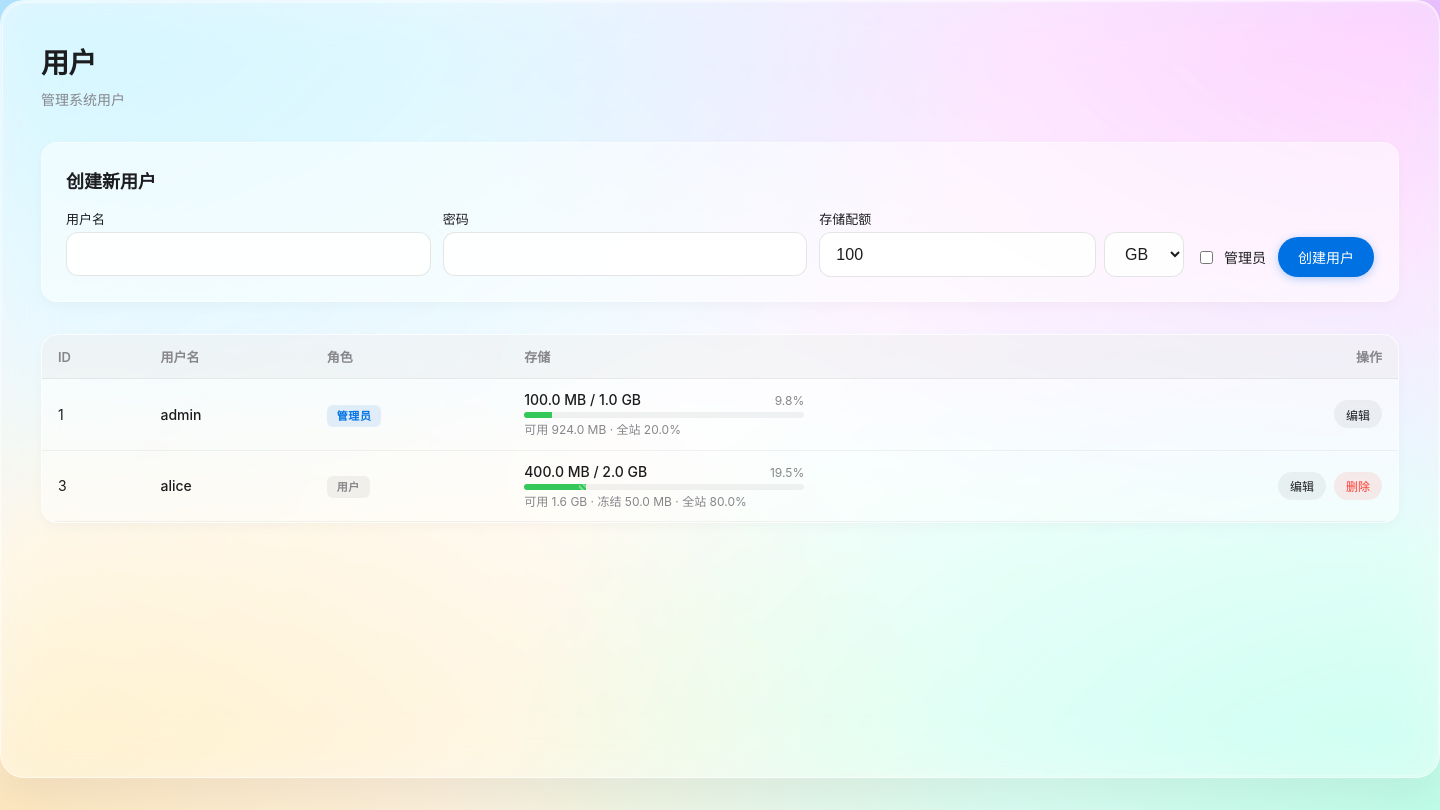
UsersPage › blocks create user when quota is invalid
Expected: the heading "创建新用户" is shown, [66, 171, 156, 192]
Expected: the text "alice" is shown, [144, 450, 311, 522]
Type "new-user" into the field labelled "用户名" at [248, 254], box [66, 232, 431, 276]
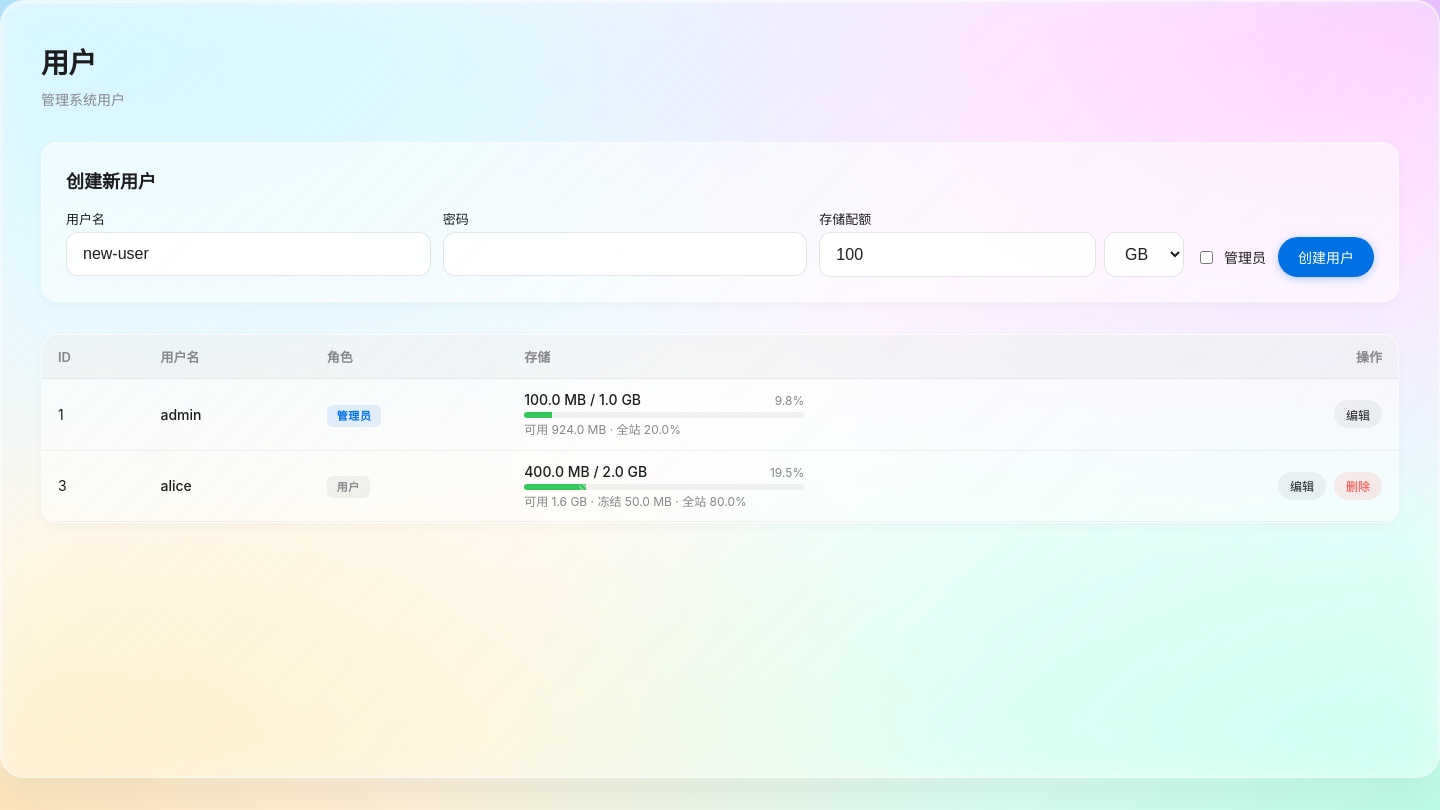
Type "pass123456" into the password field labelled "密码" at [625, 254], box [443, 232, 807, 276]
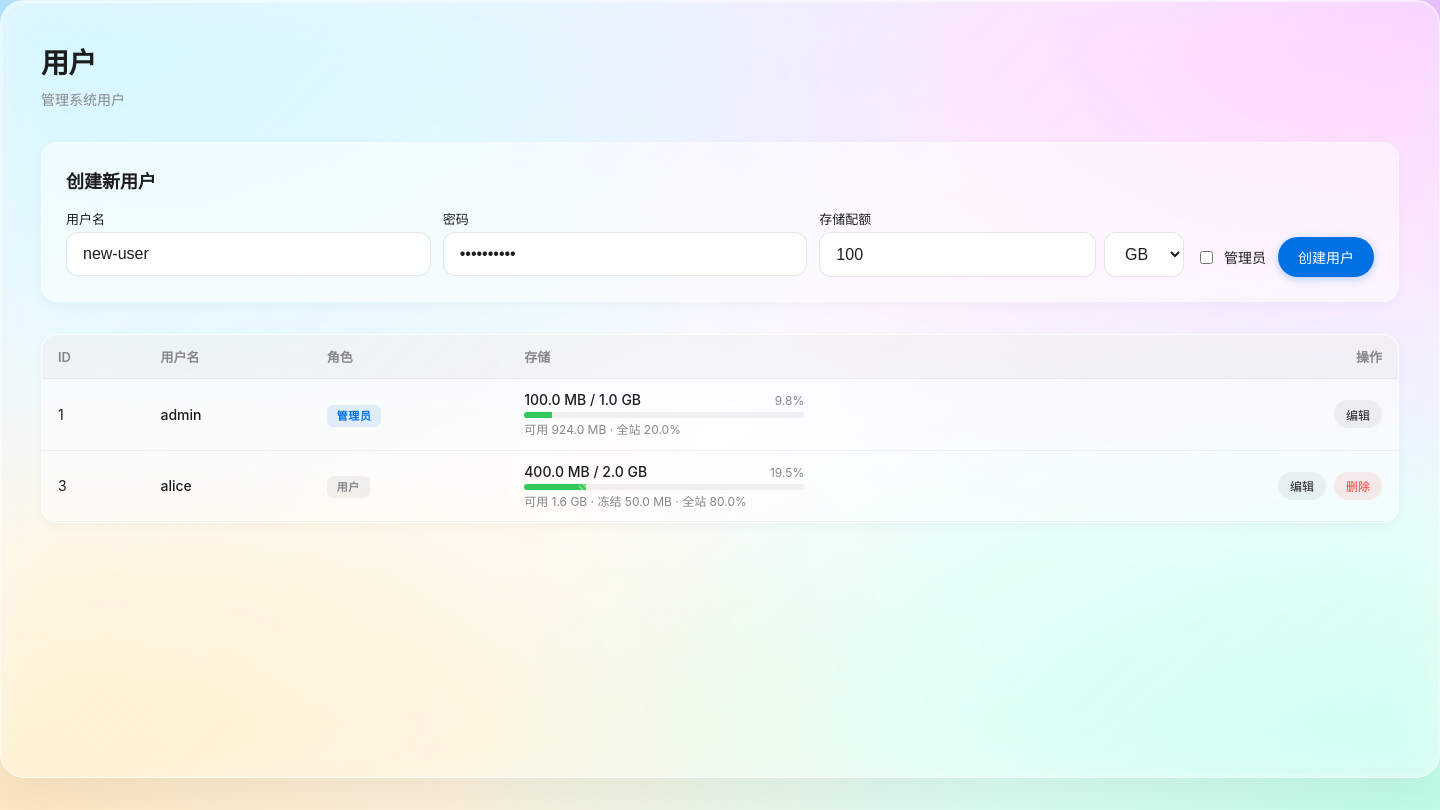
Replace the text in the number field labelled "存储配额" with "0" at [958, 254], box [819, 232, 1096, 277]
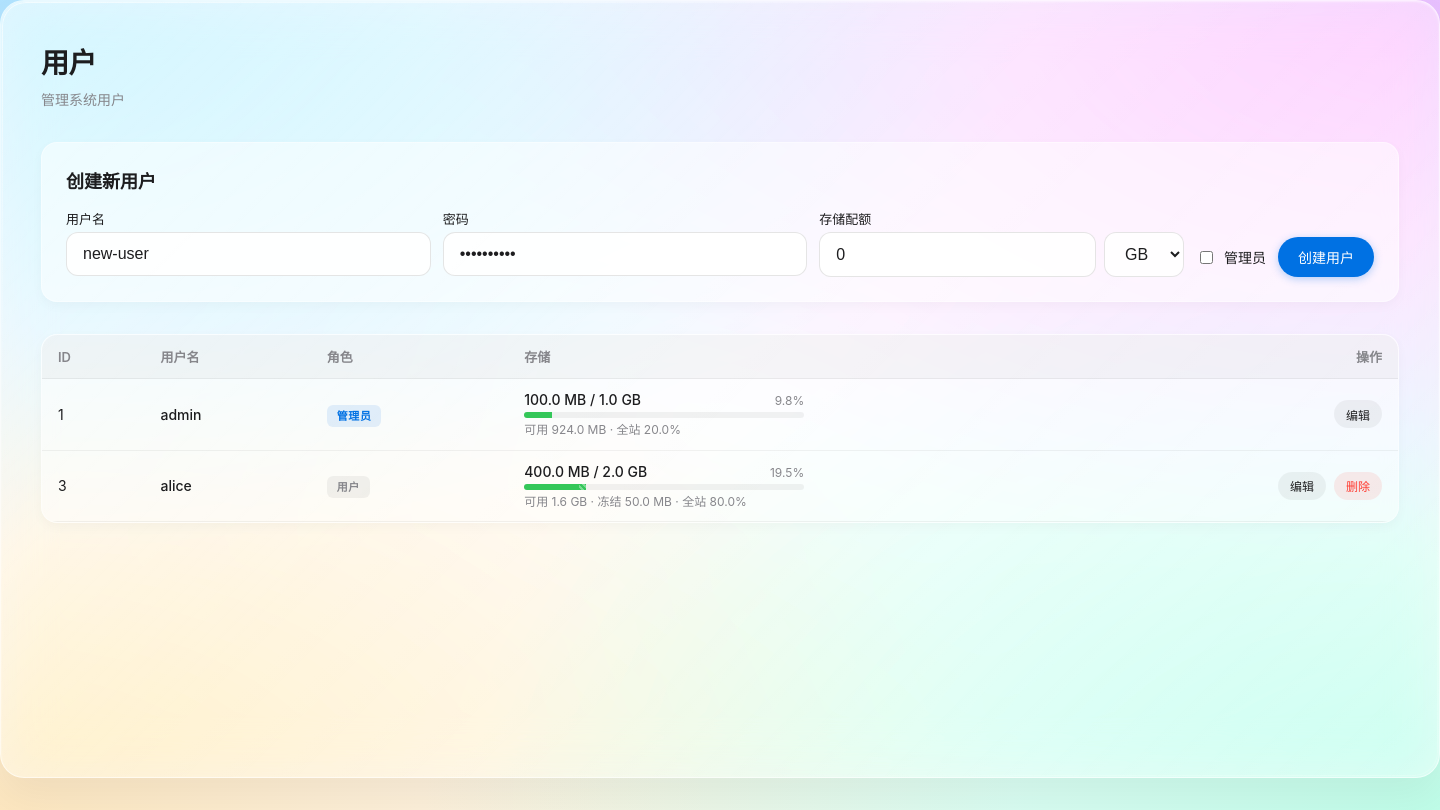
Submit the form with class "create-user-form", box [66, 209, 1374, 277]
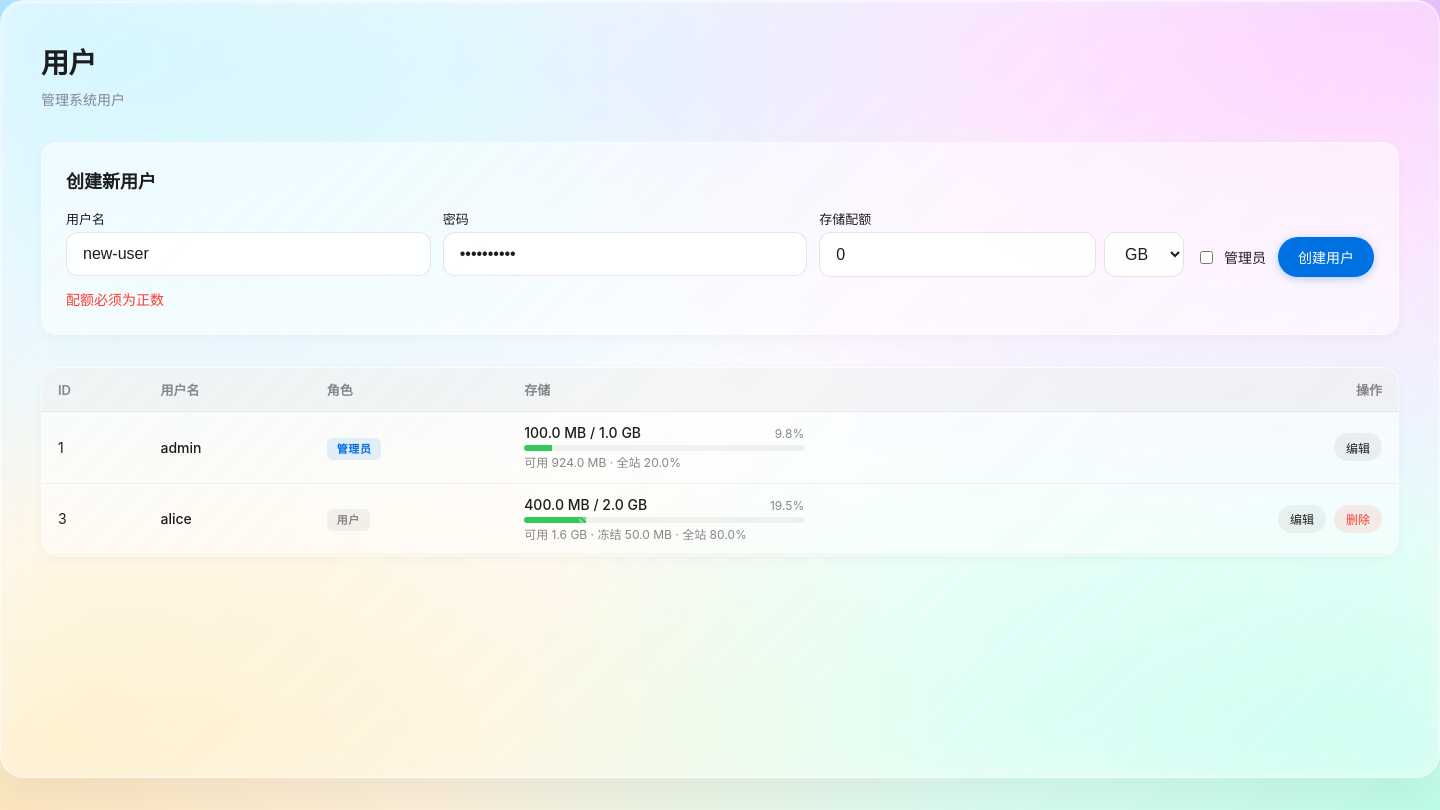
Result: the text "配额必须为正数" is shown at [66, 291, 164, 308]
